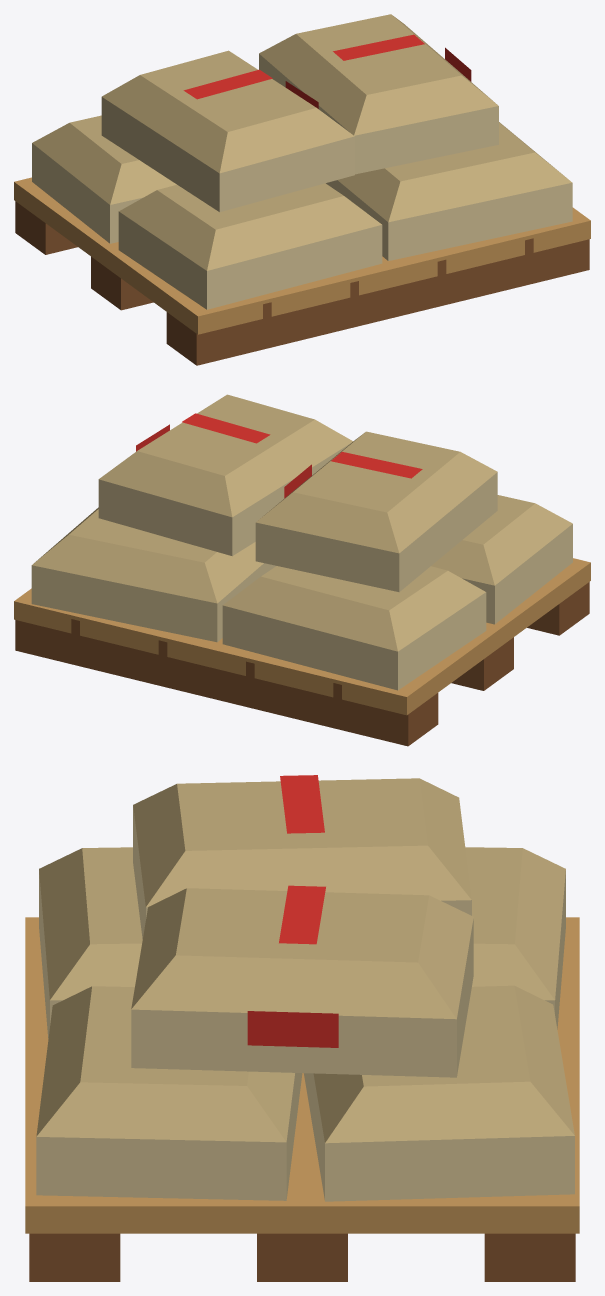
Rendered from pallet.glb.
3 renders of one model, top to bottom at view 1: azimuth 30°, elevation 25°; view 2: azimuth 150°, elevation 25°; view 3: azimuth 270°, elevation 25°, orthographic. The views are drawn at different scales.
Parts seen in each view (by area): view 1: pallet; view 2: pallet; view 3: pallet.
Part boxes in pixels (<box>): pallet: <box>14,14,590,365</box>; pallet: <box>14,394,590,746</box>; pallet: <box>25,775,579,1281</box>.
Size of the model in its own units: 0.18 by 0.081 by 0.152.
